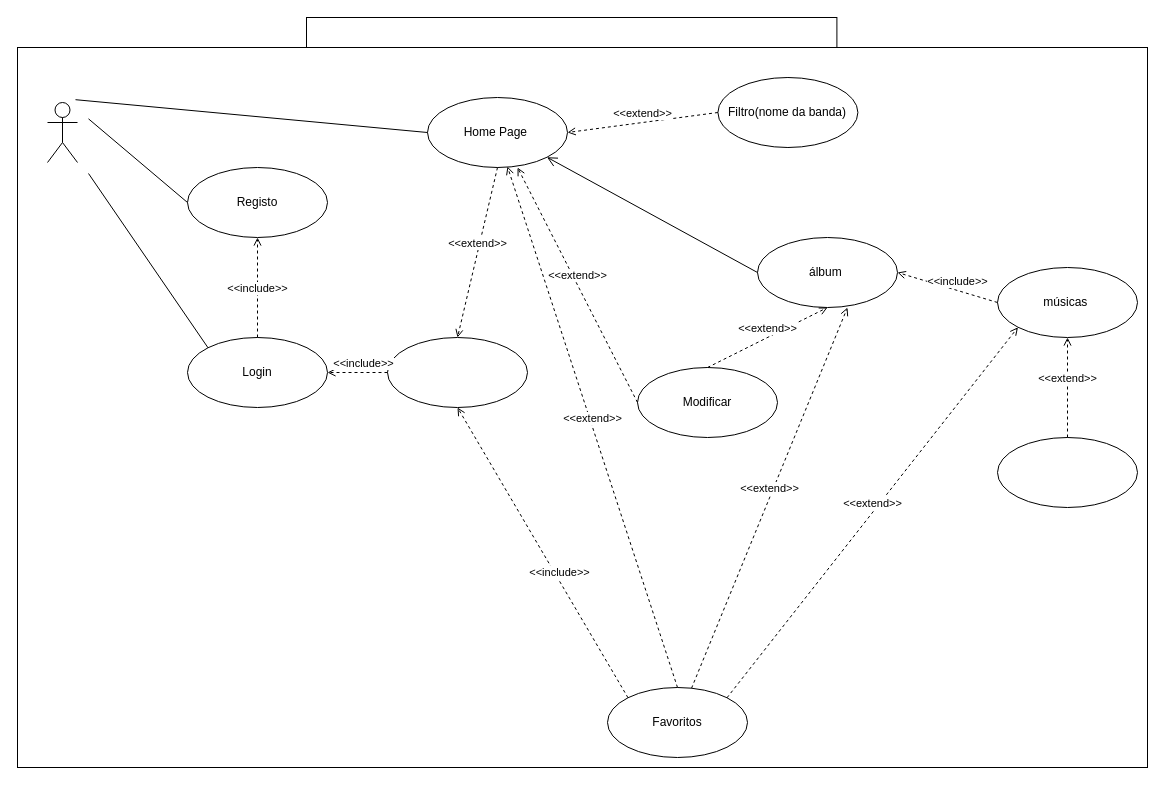
The diagram is 1165 pixels wide and 785 high, and some of its shapes have lost their labels. The box of each missing label's shape, as (x1, y1, x2, y2) in pixels:
Dashboard: (386, 336, 528, 408)
Diagrama de caso de uso da WebApp: (306, 16, 837, 48)
Ouvir: (996, 436, 1138, 508)
User: (46, 102, 78, 162)
